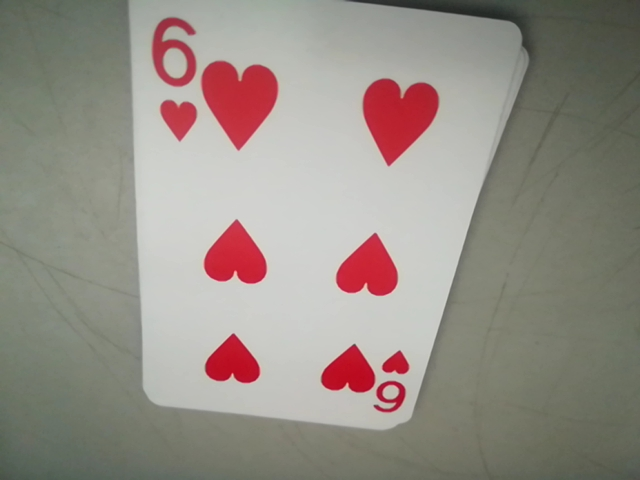hx 6: (372, 347, 412, 412)
